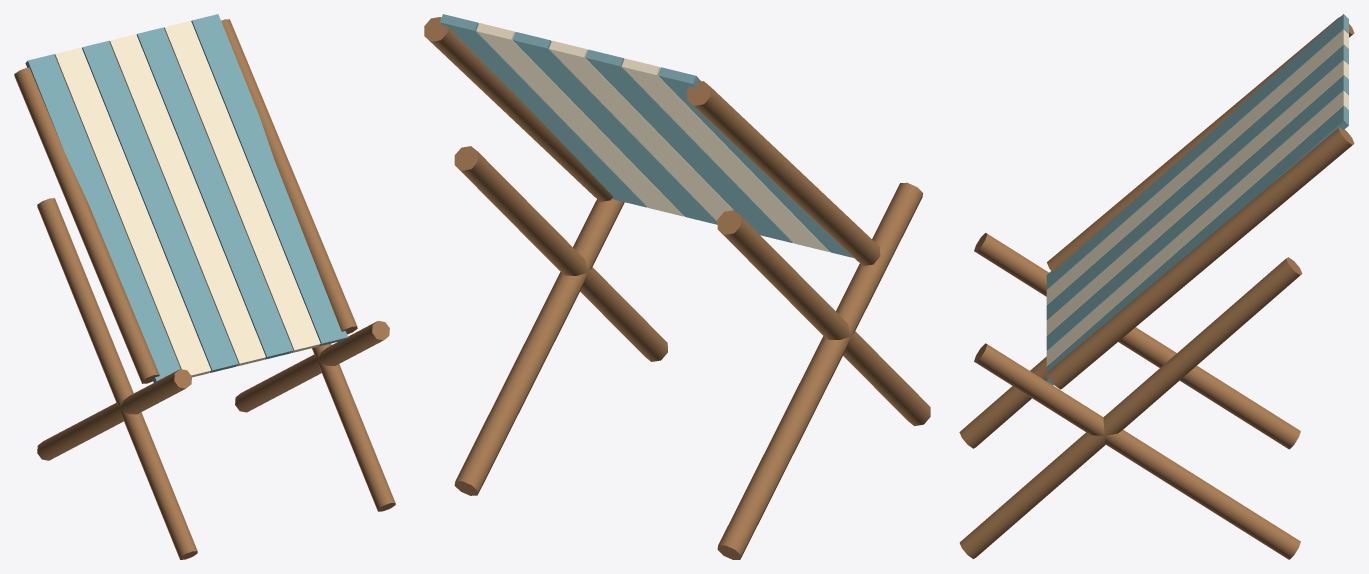
The model's file is almanac-gardens-striped-deckchair-1fa5a8cf.glb.
3 views of the same model, side by side, from view 1: azimuth 30°, elevation 25°; view 2: azimuth 150°, elevation 25°; view 3: azimuth 270°, elevation 25° (orthographic). The views are drawn at different scales.
Visible parts, largest first — view 1: striped-deckchair-blue, striped-deckchair-ivory, striped-deckchair-oak; view 2: striped-deckchair-oak, striped-deckchair-blue, striped-deckchair-ivory; view 3: striped-deckchair-oak, striped-deckchair-blue, striped-deckchair-ivory.
Part boxes in pixels (x1,y1,x2,y2): striped-deckchair-blue: [25, 14, 347, 382]; striped-deckchair-ivory: [54, 20, 320, 377]; striped-deckchair-oak: [14, 19, 395, 559]; striped-deckchair-oak: [424, 17, 930, 559]; striped-deckchair-blue: [440, 14, 853, 257]; striped-deckchair-ivory: [476, 23, 829, 251]; striped-deckchair-oak: [959, 17, 1354, 559]; striped-deckchair-blue: [1046, 14, 1348, 385]; striped-deckchair-ivory: [1046, 29, 1348, 365].
Bounding box in the file's own units: 0.6541 × 1.11 × 0.9071.
